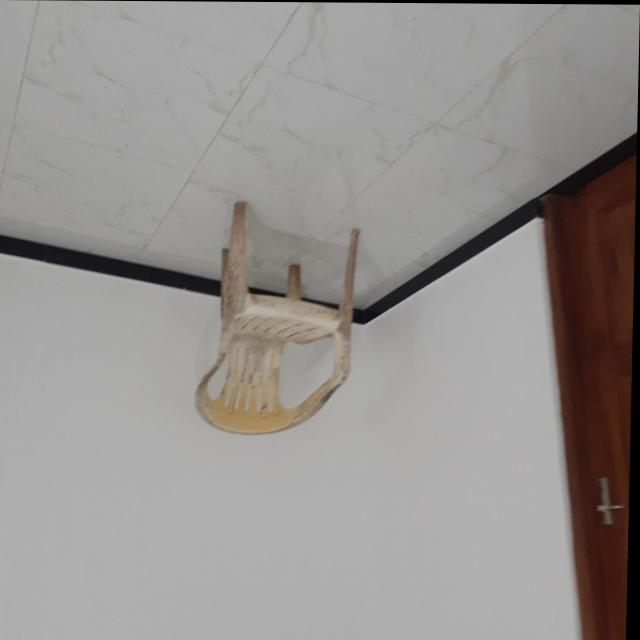Chair: (196, 197, 365, 437)
